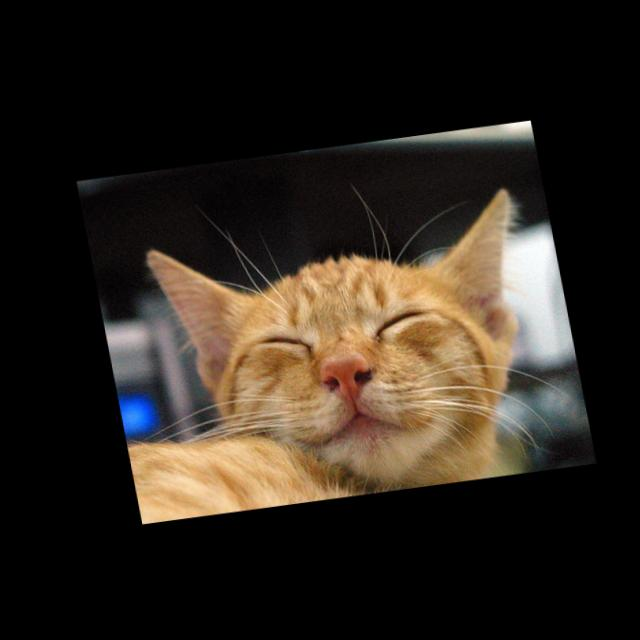animals: (144, 188, 540, 423)
